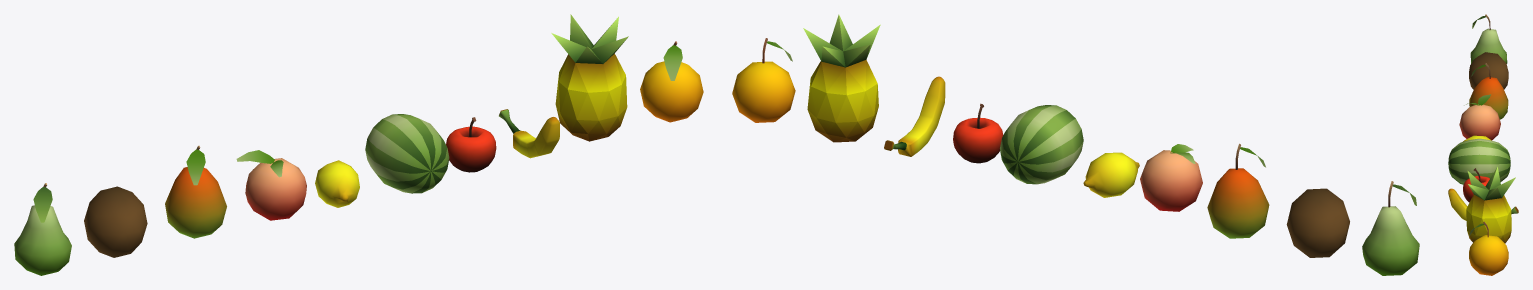
The model's file is FreshFruits_Fruits.fbx.
The picture shows the model from 3 angles, left to right: view 1: azimuth 30°, elevation 25°; view 2: azimuth 150°, elevation 25°; view 3: azimuth 270°, elevation 25°; orthographic projection. The views are drawn at different scales.
Visible parts, largest first — view 1: Pineapple, Watermelon, Mango, Coconut, Peach, Orange, Pear, Apple, Lemon, Banana; view 2: Pineapple, Watermelon, Mango, Coconut, Orange, Peach, Pear, Apple, Lemon, Banana; view 3: Pineapple, Watermelon, Orange, Peach, Coconut, Mango, Pear, Banana, Apple, Lemon.
Boxes of the visible parts, <box> form: Pineapple: <box>551,14,628,141</box>; Watermelon: <box>365,114,449,193</box>; Mango: <box>165,145,226,238</box>; Coconut: <box>84,186,147,257</box>; Peach: <box>236,150,306,220</box>; Orange: <box>640,41,703,122</box>; Pear: <box>14,183,71,275</box>; Apple: <box>446,117,496,172</box>; Lemon: <box>315,160,359,207</box>; Banana: <box>499,109,559,158</box>; Pineapple: <box>803,14,880,142</box>; Watermelon: <box>1000,105,1083,184</box>; Mango: <box>1207,143,1269,238</box>; Coconut: <box>1286,188,1349,257</box>; Orange: <box>732,38,795,122</box>; Peach: <box>1140,144,1202,211</box>; Pear: <box>1362,181,1419,275</box>; Apple: <box>953,103,1003,163</box>; Lemon: <box>1083,152,1139,197</box>; Banana: <box>884,76,945,156</box>; Pineapple: <box>1466,167,1515,243</box>; Watermelon: <box>1448,138,1510,184</box>; Orange: <box>1469,221,1508,275</box>; Peach: <box>1459,94,1500,140</box>; Coconut: <box>1469,52,1508,89</box>; Mango: <box>1469,63,1508,119</box>; Pear: <box>1470,14,1507,63</box>; Banana: <box>1448,188,1518,220</box>; Apple: <box>1463,168,1489,202</box>; Lemon: <box>1463,135,1491,141</box>.
Bounding box in the file's own units: 2.74 × 0.4247 × 0.3755.
Materials: 1 (1 with a texture image).
